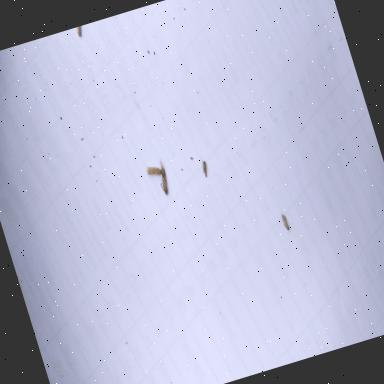pbw: (153, 158, 171, 196), (144, 164, 162, 178), (198, 160, 210, 178), (280, 212, 290, 231), (74, 26, 84, 37)
